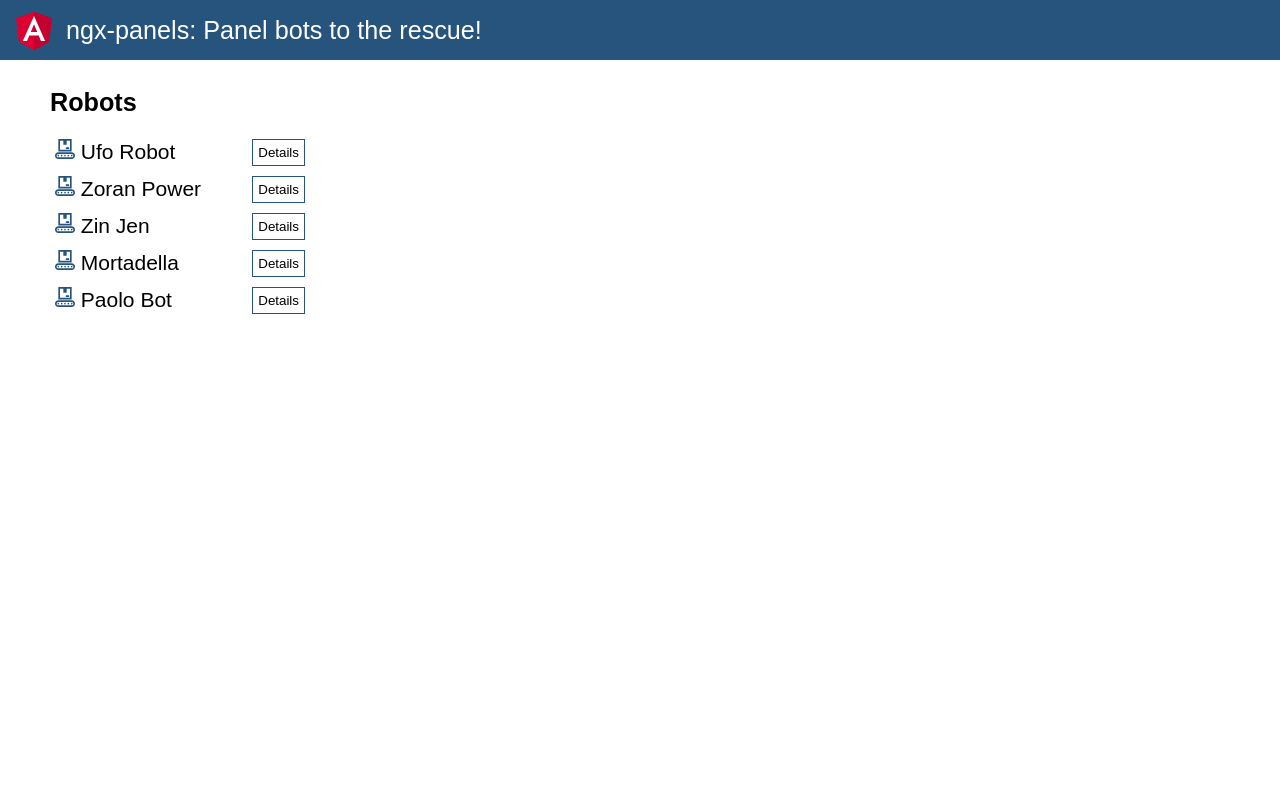
Test case: Actions › Should open the panel with the right robot name
Click the button with class "app-root__button" next to "Ufo Robot": (279, 153) [252,139,305,166]
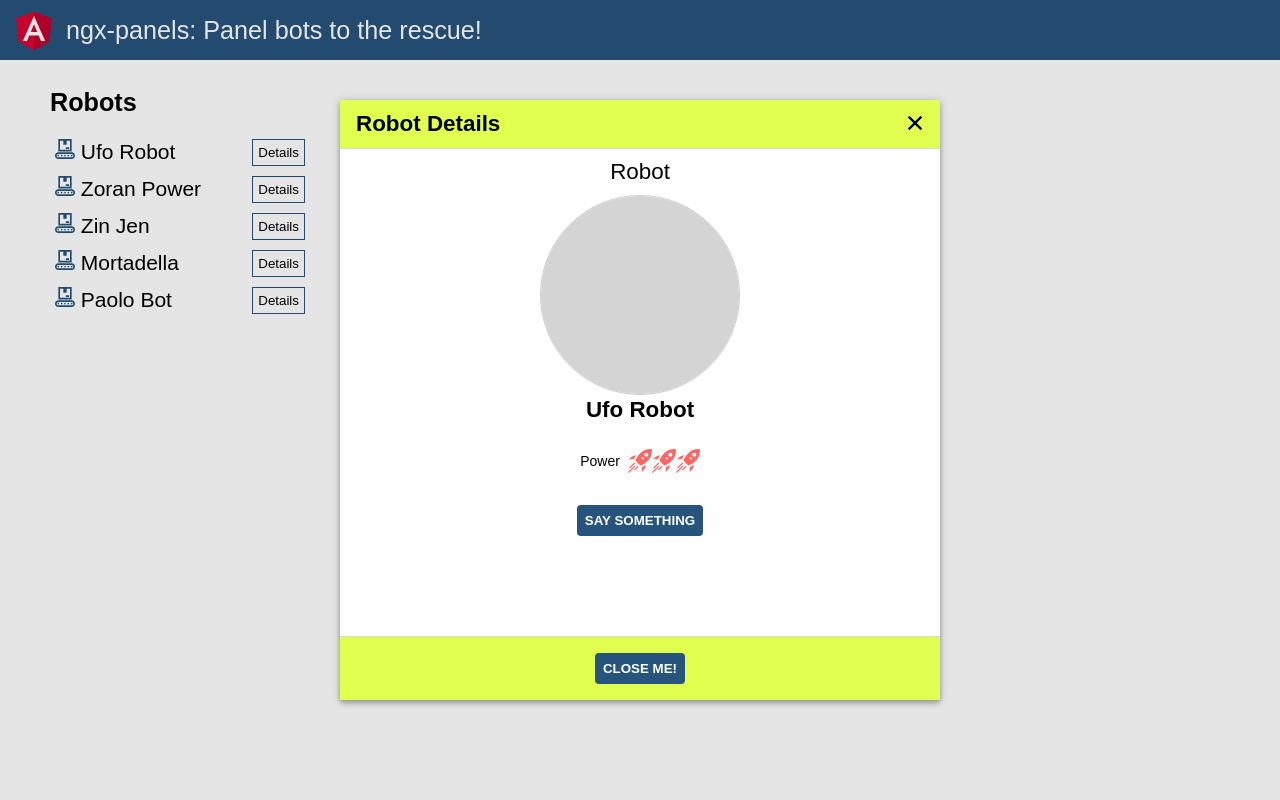
Result: the text with class "name" reads "Ufo Robot" at [586,397,694,422]
